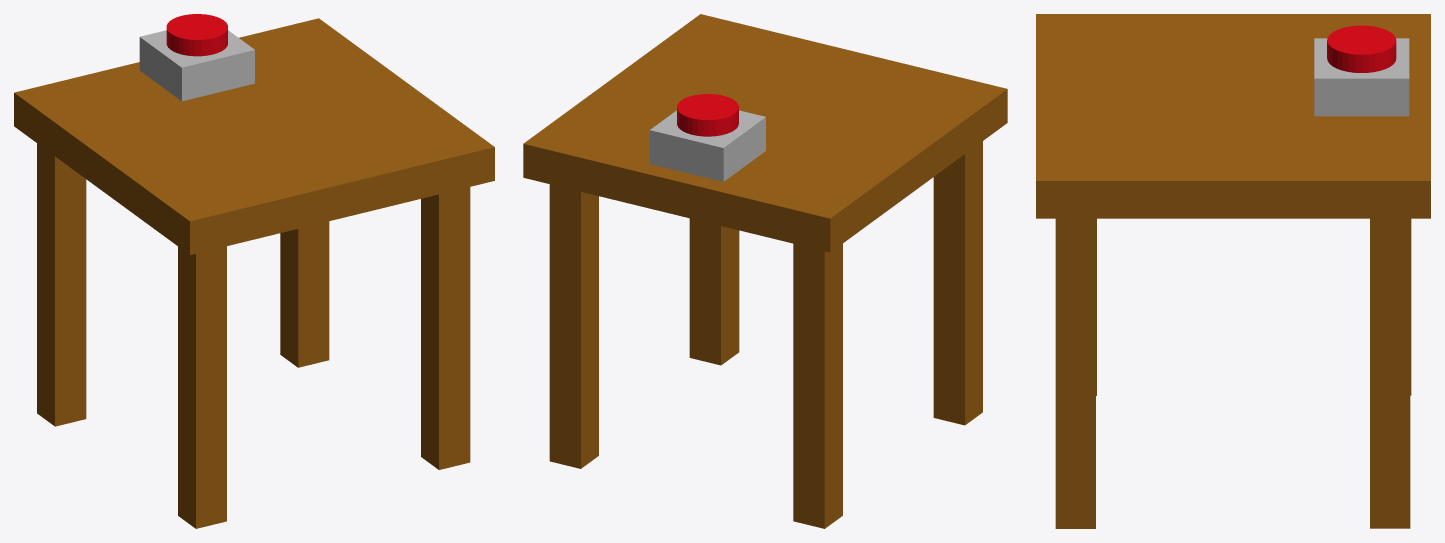
File: OrderTable.fbx
3 renders of one model, left to right at view 1: azimuth 30°, elevation 25°; view 2: azimuth 150°, elevation 25°; view 3: azimuth 270°, elevation 25°, orthographic. The views are drawn at different scales.
Parts seen in each view (by area): view 1: Cube, Cube.004, Cube.003, Cube.001, Cube.002, Cube.005, Cylinder; view 2: Cube, Cube.001, Cube.002, Cube.003, Cube.004, Cube.005, Cylinder; view 3: Cube, Cube.002, Cube.004, Cube.005, Cylinder.
Boxes of the visible parts, box(x1,y1,x2,y2) form: Cube: box(14, 18, 494, 254); Cube.004: box(421, 187, 470, 469); Cube.003: box(178, 246, 226, 528); Cube.001: box(37, 143, 86, 426); Cube.002: box(280, 221, 329, 367); Cube.005: box(139, 30, 254, 101); Cylinder: box(166, 14, 227, 56); Cube: box(523, 14, 1007, 252); Cube.001: box(793, 243, 842, 528); Cube.002: box(549, 184, 598, 468); Cube.003: box(933, 141, 982, 425); Cube.004: box(689, 218, 739, 365); Cube.005: box(649, 110, 765, 181); Cylinder: box(677, 94, 738, 136); Cube: box(1036, 14, 1430, 218); Cube.002: box(1370, 218, 1410, 528); Cube.004: box(1055, 218, 1095, 528); Cube.005: box(1314, 38, 1409, 116); Cylinder: box(1327, 25, 1396, 72).
Size of the model in its own units: 200 by 231 by 200.
